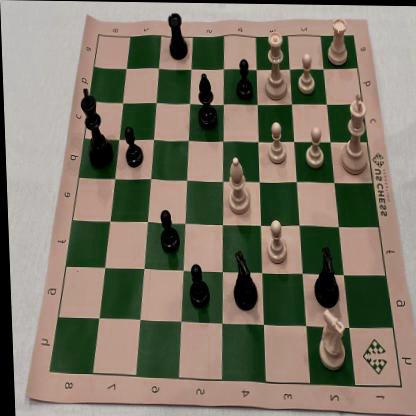black-bishop: (194, 68, 220, 132)
black-king: (76, 81, 114, 168)
black-knight: (310, 241, 342, 308), (228, 247, 258, 313)
black-pawn: (184, 258, 211, 311), (154, 206, 180, 257), (121, 121, 144, 170), (232, 52, 254, 102)
black-rook: (164, 7, 191, 63)
white-bishop: (224, 154, 252, 217)
white-king: (336, 89, 370, 176)
white-knight: (312, 304, 347, 373)
white-pawn: (262, 214, 288, 266), (264, 116, 288, 168), (295, 49, 317, 98), (302, 121, 324, 170)
white-queen: (260, 27, 288, 102)
white-rook: (322, 13, 352, 70)
